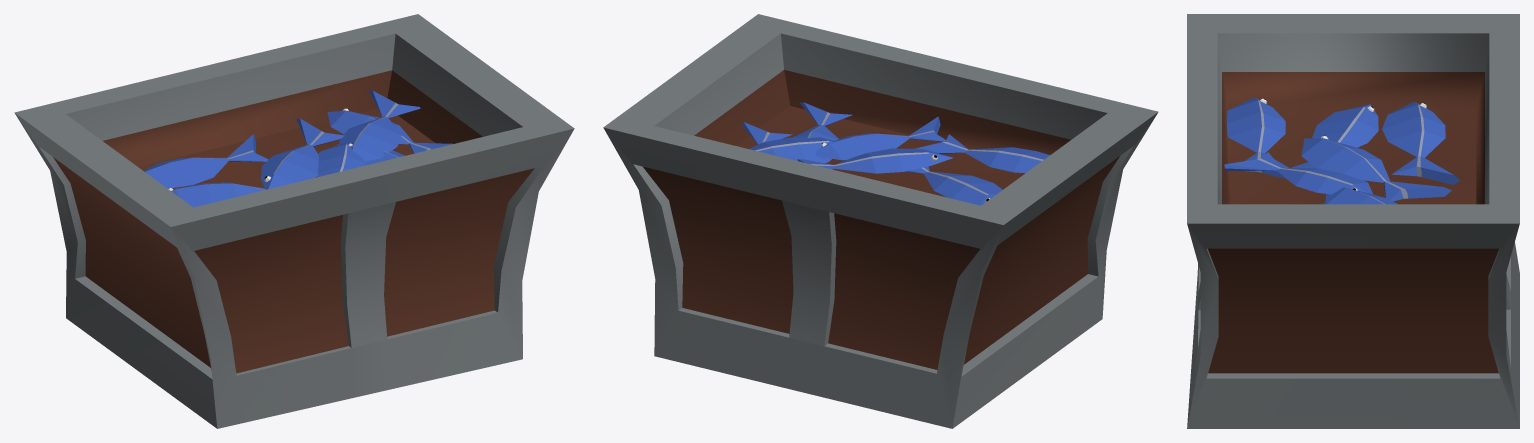
File: metal_chest_down.fbx
3 renders of one model, left to right at view 1: azimuth 30°, elevation 25°; view 2: azimuth 150°, elevation 25°; view 3: azimuth 270°, elevation 25°, orthographic. The views are drawn at different scales.
Visible parts, largest first — view 1: metal_chest_down; view 2: metal_chest_down; view 3: metal_chest_down.
Boxes of the visible parts, bbox=[...] form: metal_chest_down: bbox=[14, 14, 574, 428]; metal_chest_down: bbox=[603, 14, 1158, 428]; metal_chest_down: bbox=[1187, 14, 1519, 428].
Bounding box in the file's own units: 7.97 × 4.11 × 5.35.
